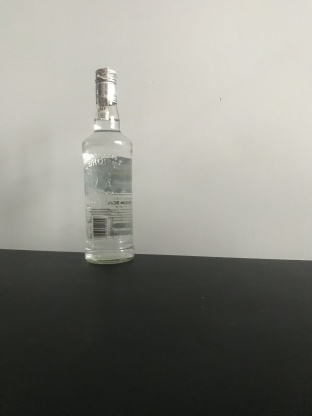nakretka: (93, 65, 119, 106)
